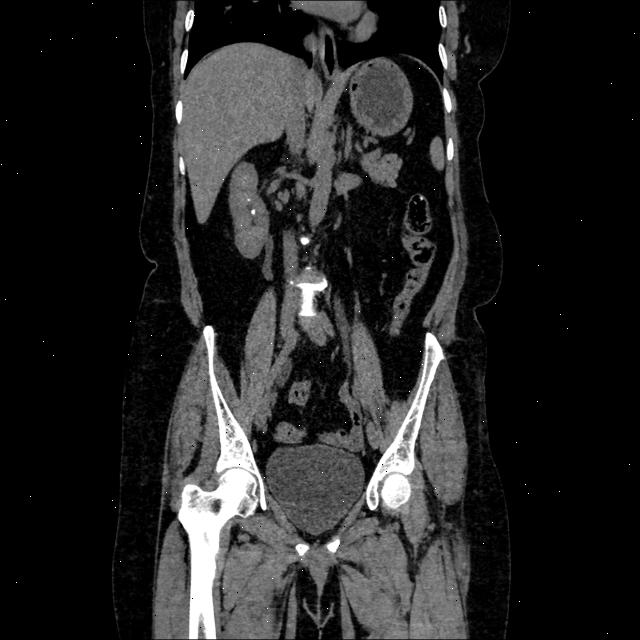kidneystone: (251, 208, 256, 215)
